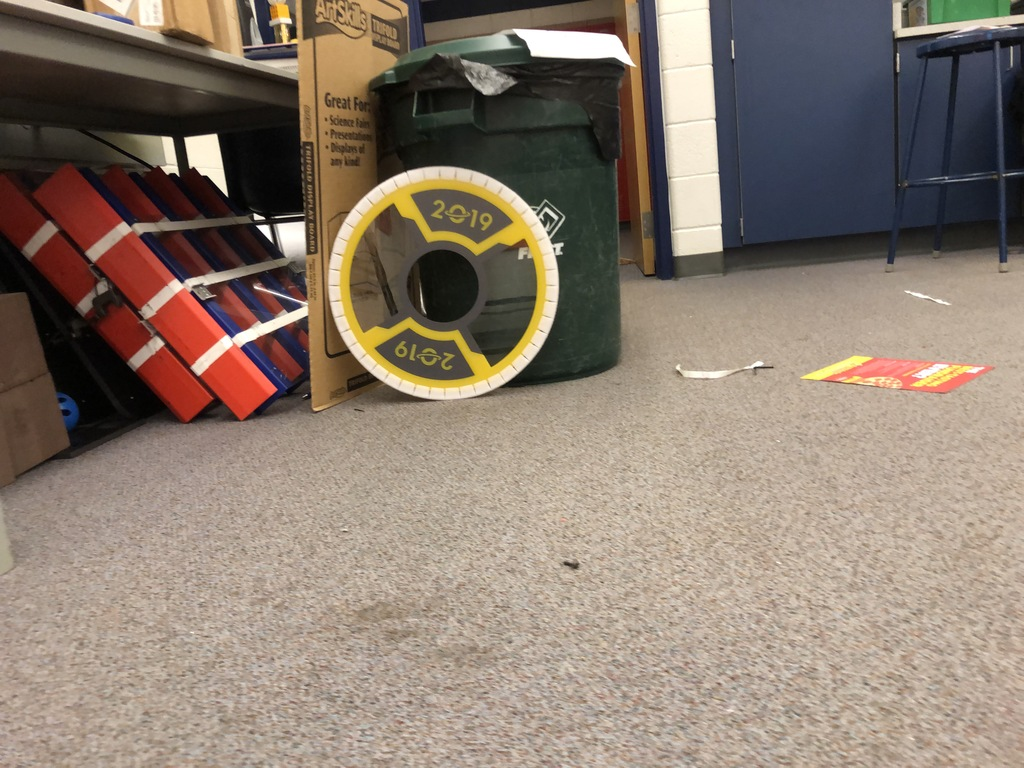hatch_panel: (320, 150, 573, 419)
